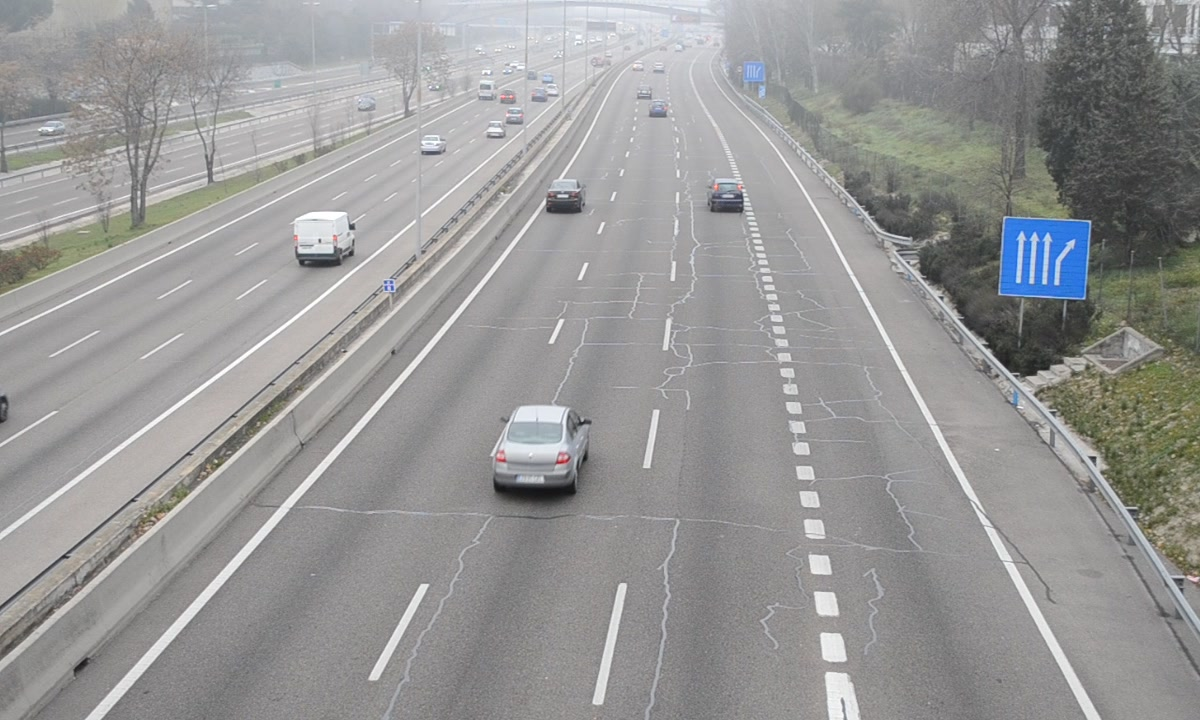car: (493, 406, 585, 492), (545, 178, 582, 212), (709, 179, 744, 211)
